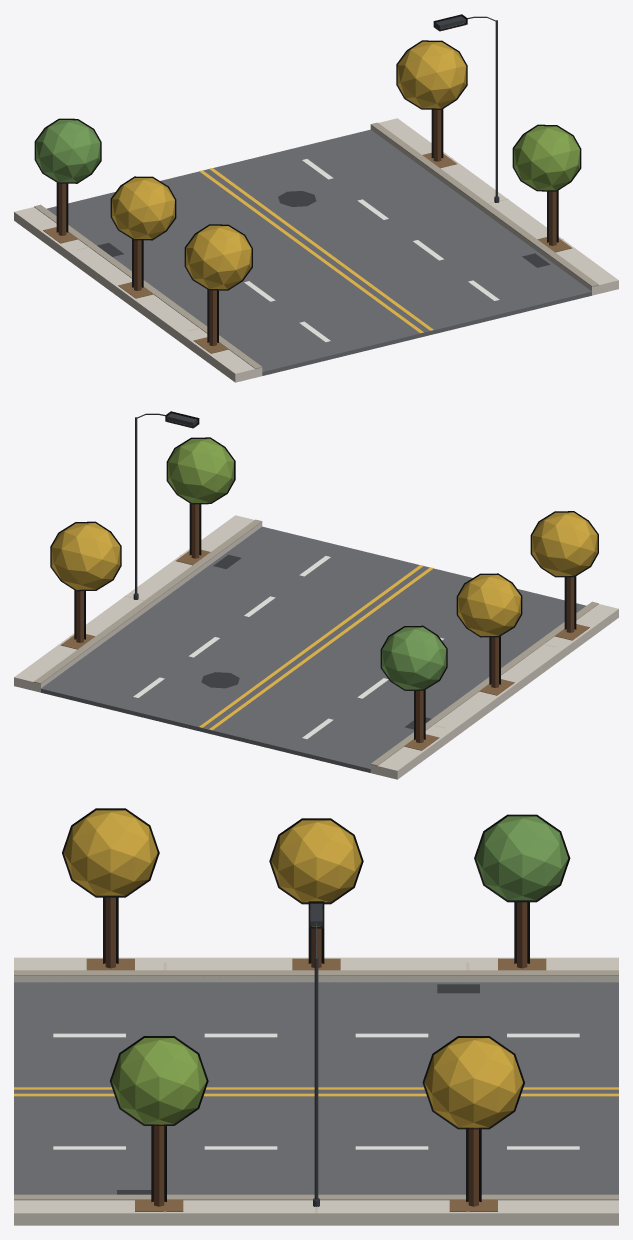
File: Yol_cadde_agacli.fbx
3 views of the same model, one above another, from view 1: azimuth 30°, elevation 25°; view 2: azimuth 150°, elevation 25°; view 3: azimuth 270°, elevation 25° (orthographic). The views are drawn at different scales.
Visible parts, largest first — view 1: Yol_cadde_agacli; view 2: Yol_cadde_agacli; view 3: Yol_cadde_agacli.
Boxes of the visible parts, x1,y1,x2,y2 form: Yol_cadde_agacli: [14, 14, 618, 382]; Yol_cadde_agacli: [14, 411, 618, 779]; Yol_cadde_agacli: [14, 808, 618, 1225].
Size of the model in its own units: 10.68 by 5.04 by 10.
